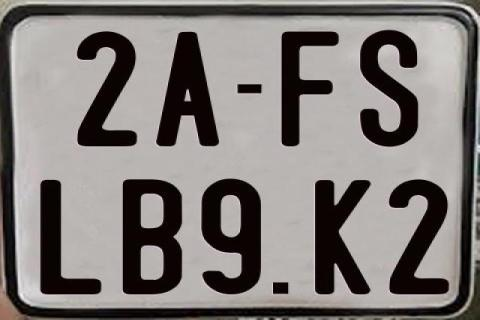0: (200, 178, 265, 298), (76, 29, 138, 145), (389, 177, 451, 293)
A: (154, 30, 222, 146)
B: (122, 178, 187, 294)
F: (279, 31, 341, 148)
K: (313, 179, 372, 297)
L: (39, 179, 101, 297)
S: (360, 28, 420, 150)
